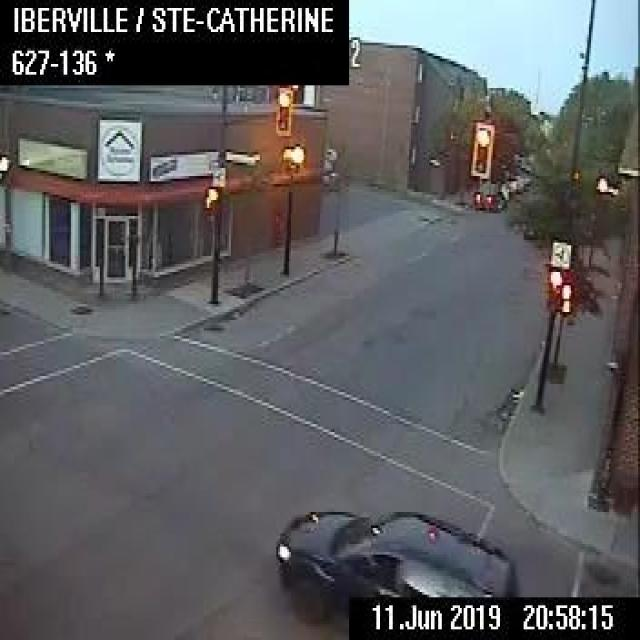vehicle: (274, 507, 519, 629), (472, 180, 506, 209), (503, 173, 522, 192)
